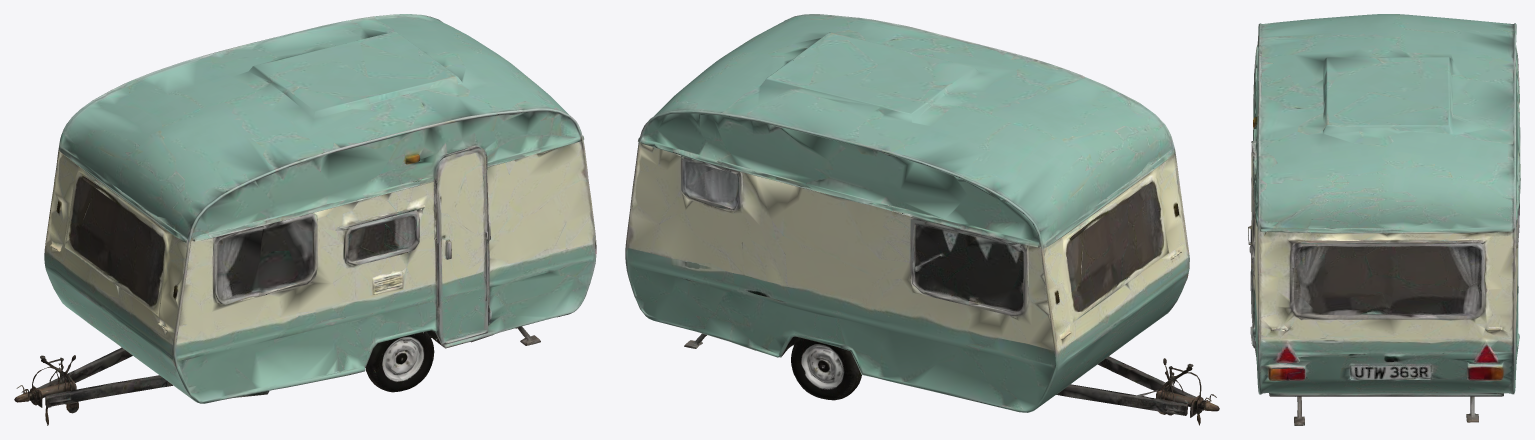
The model's file is caravan-SHRINK.glb.
The picture shows the model from 3 angles, left to right: view 1: azimuth 30°, elevation 25°; view 2: azimuth 150°, elevation 25°; view 3: azimuth 270°, elevation 25°; orthographic projection. The views are drawn at different scales.
Size of the model in its own units: 1.9 by 0.9601 by 0.8763.
1 material, 1 textured.
